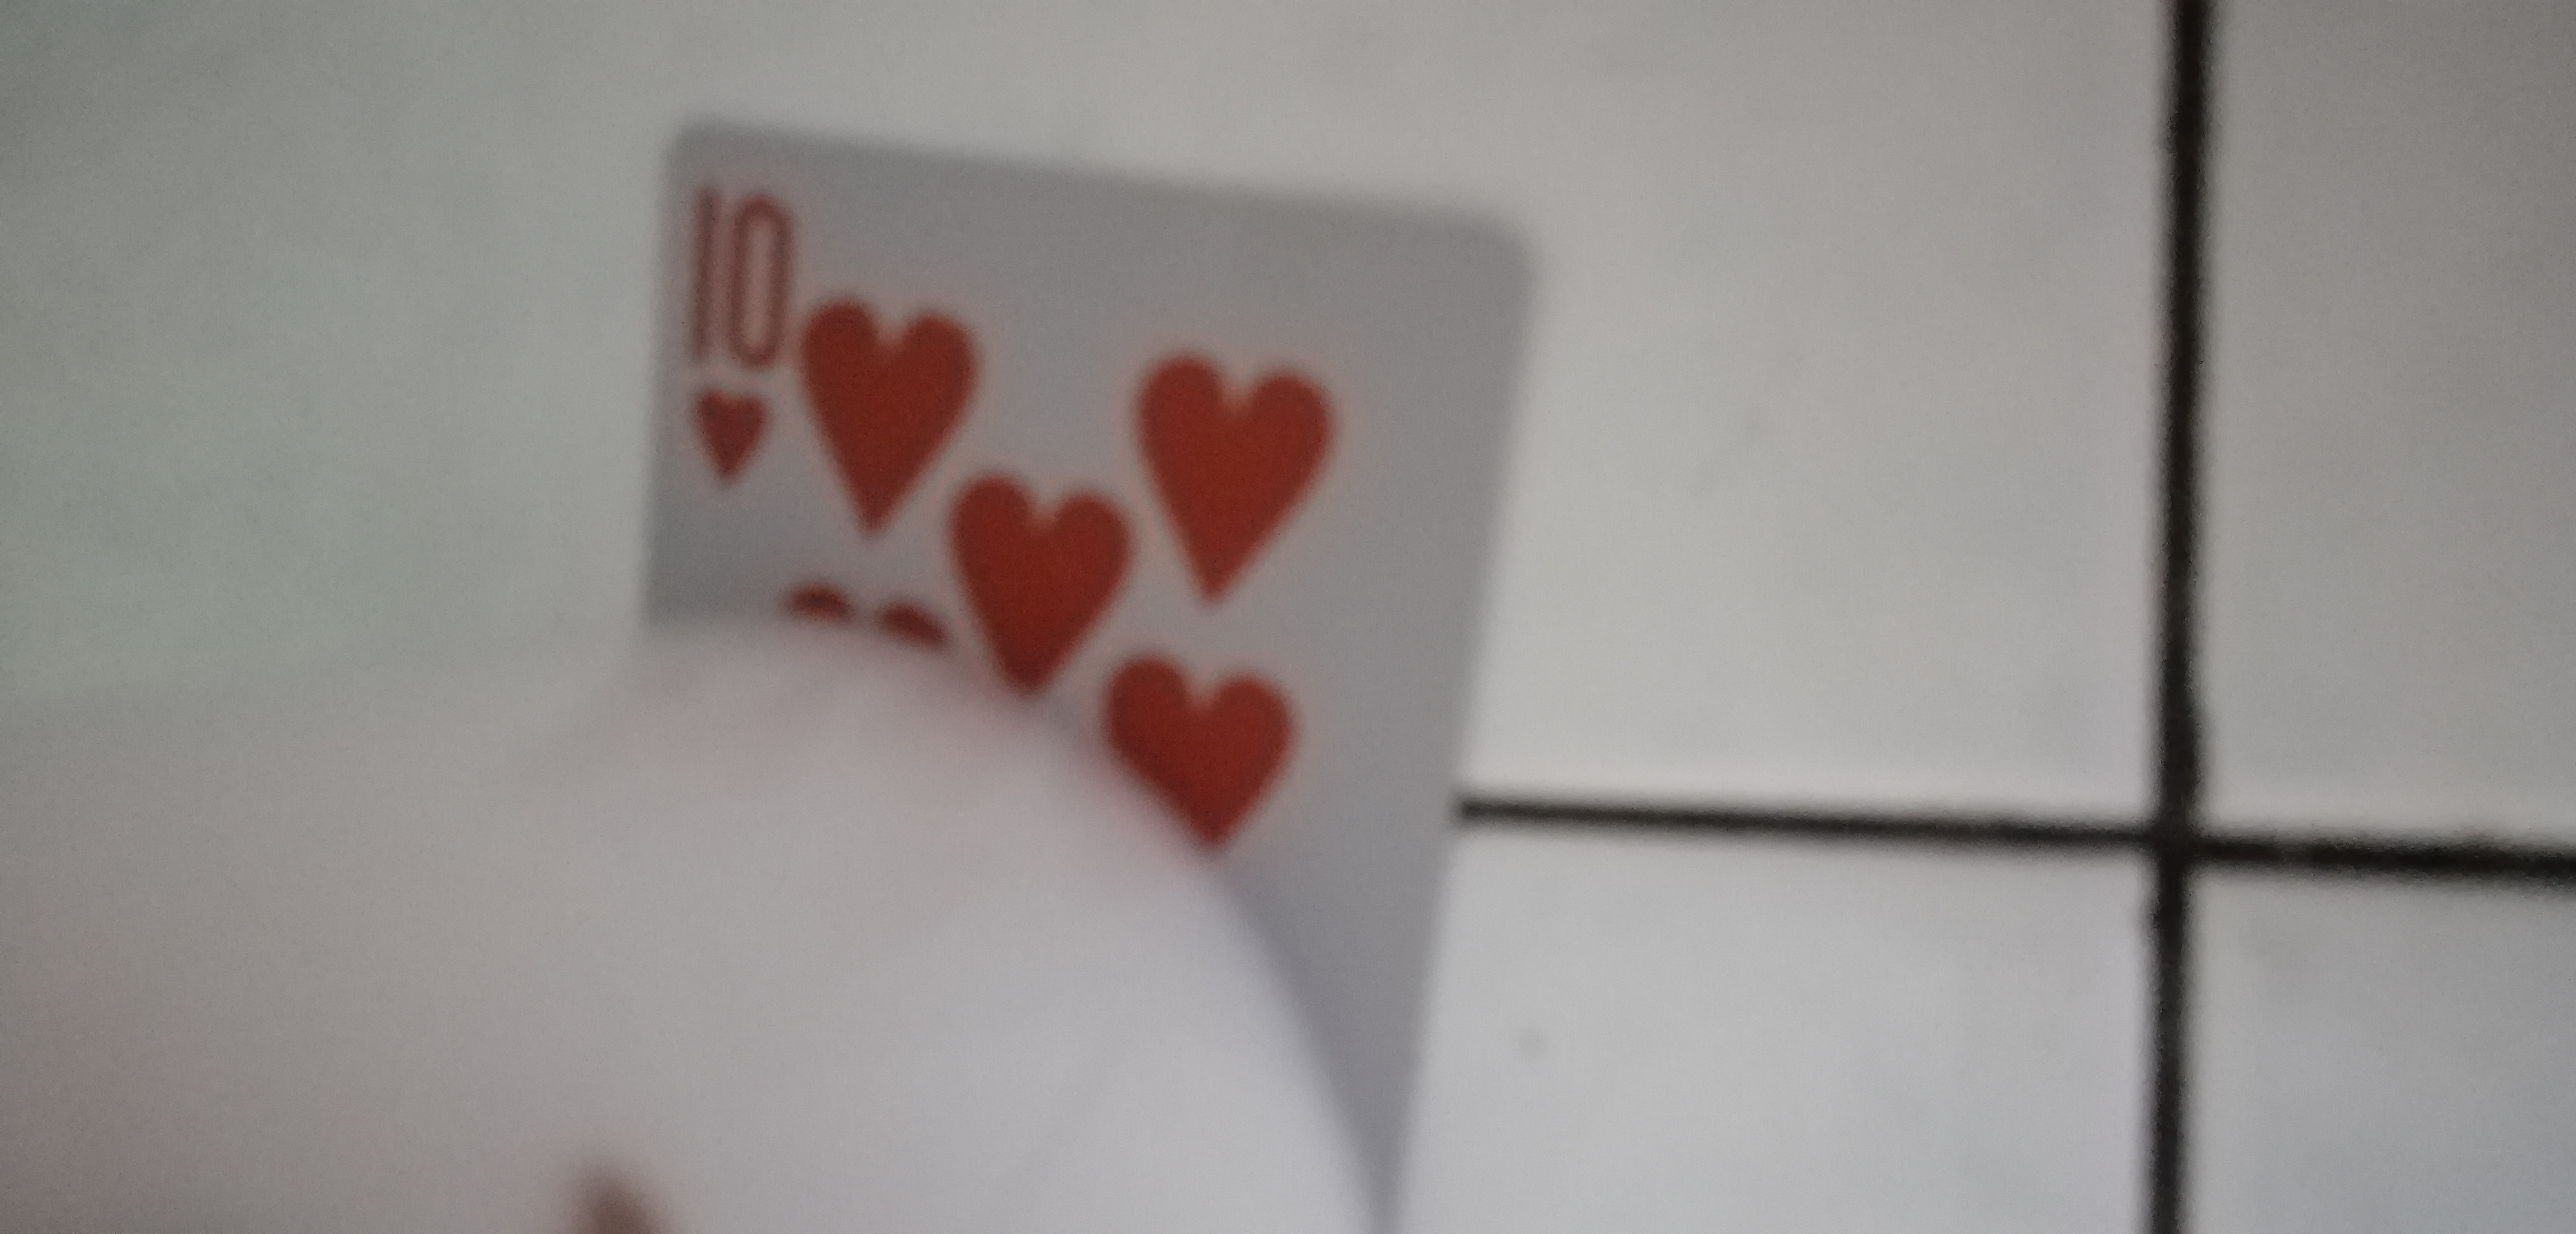ten: (593, 127, 1525, 848)
